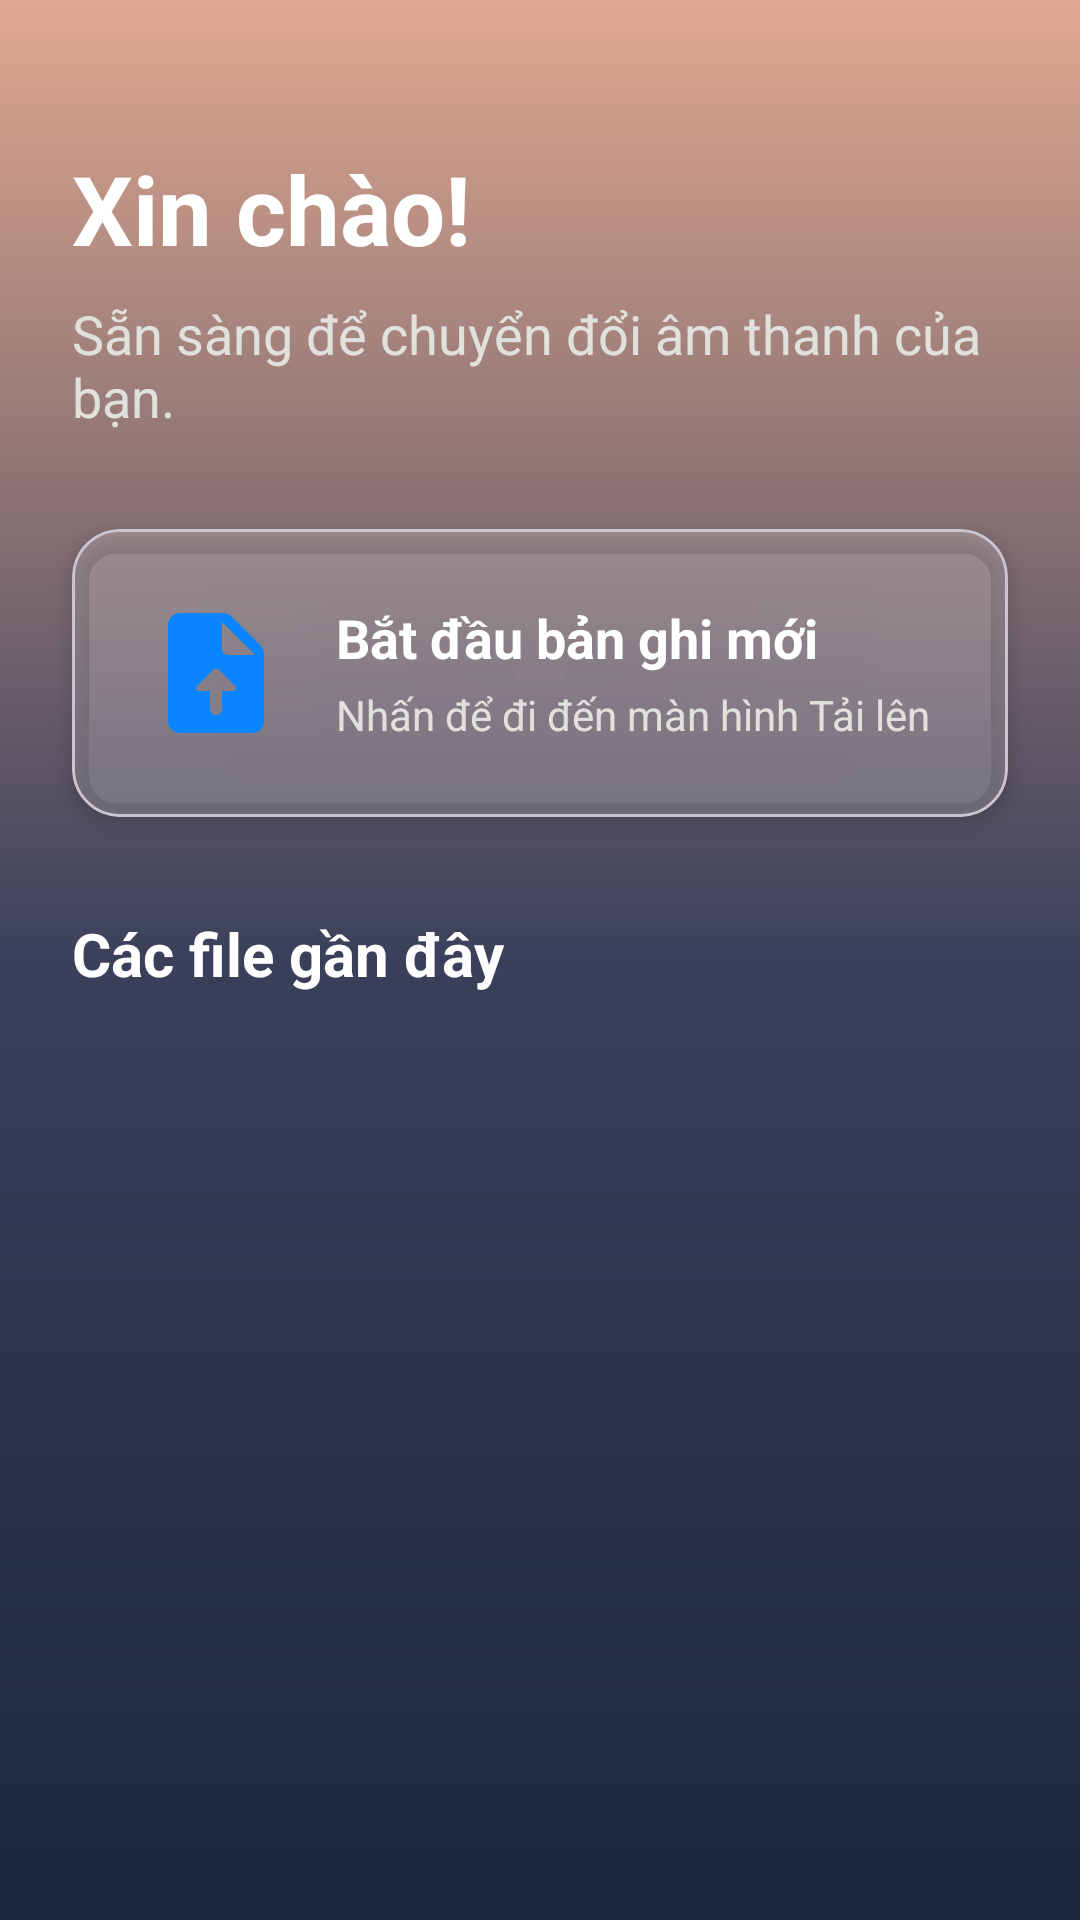

Locate icon controls on the screen. Image size 1080px x 1920px, boxes as (x1, y1, x2, y2).
upload: (168, 613, 264, 733)
